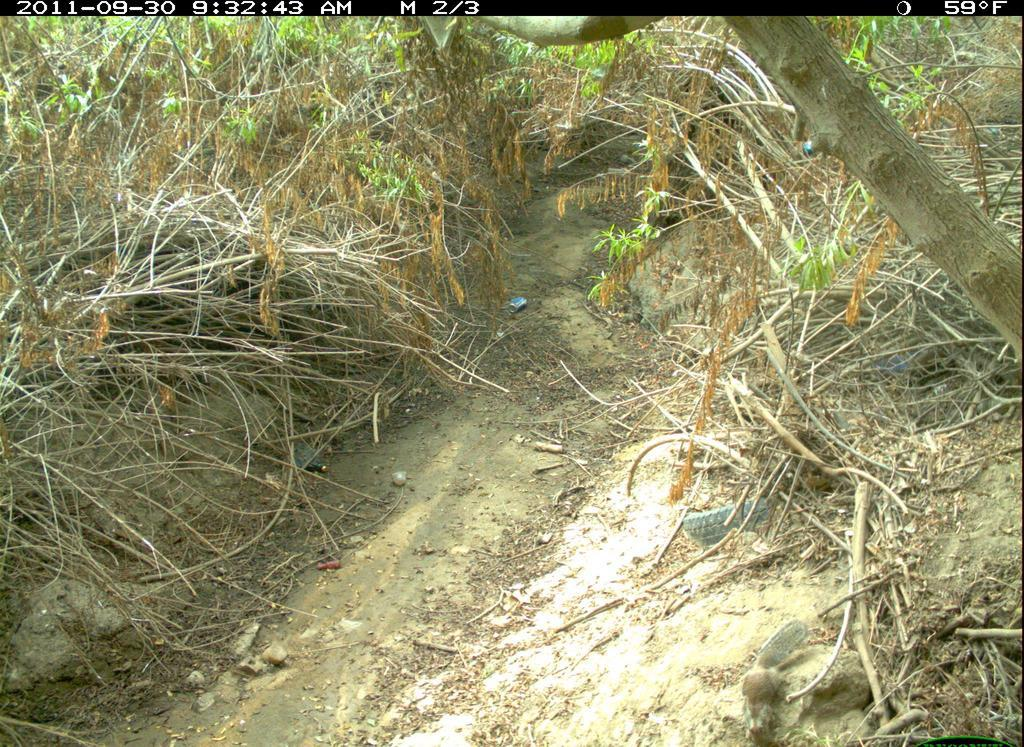squirrel: (735, 612, 809, 745)
